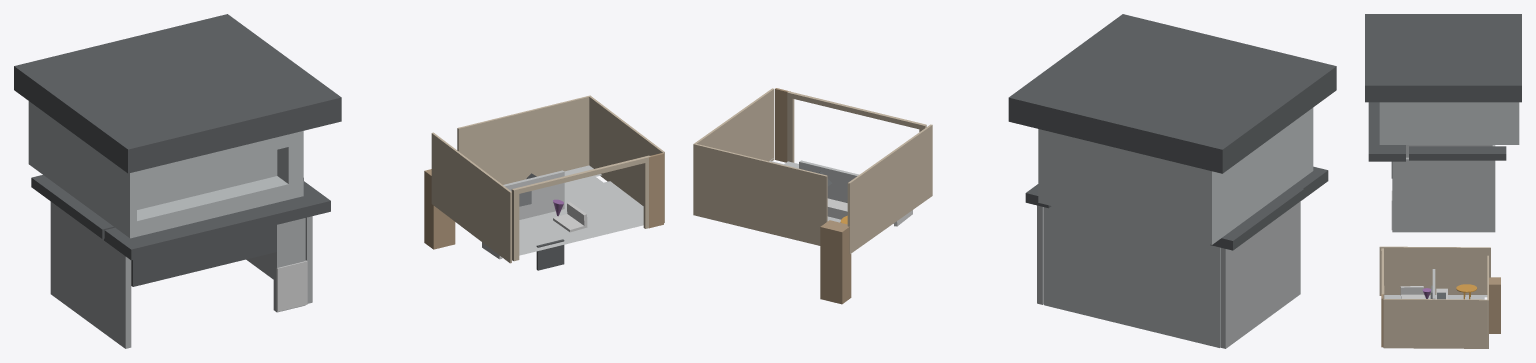
The model's file is rheannahouse.fbx.
The picture shows the model from 3 angles, left to right: view 1: azimuth 30°, elevation 25°; view 2: azimuth 150°, elevation 25°; view 3: azimuth 270°, elevation 25°; orthographic projection. The views are drawn at different scales.
Visible parts, largest first — view 1: Mesh_Mesh_head_geo.001_lambert2SG.001; view 2: Mesh_Mesh_head_geo.001_lambert2SG.001; view 3: Mesh_Mesh_head_geo.001_lambert2SG.001.
Boxes of the visible parts, box(x1,y1,x2,y2) form: Mesh_Mesh_head_geo.001_lambert2SG.001: box(14, 14, 664, 348); Mesh_Mesh_head_geo.001_lambert2SG.001: box(693, 14, 1336, 348); Mesh_Mesh_head_geo.001_lambert2SG.001: box(1365, 14, 1521, 348).
Size of the model in its own units: 48100 by 21800 by 17200.
